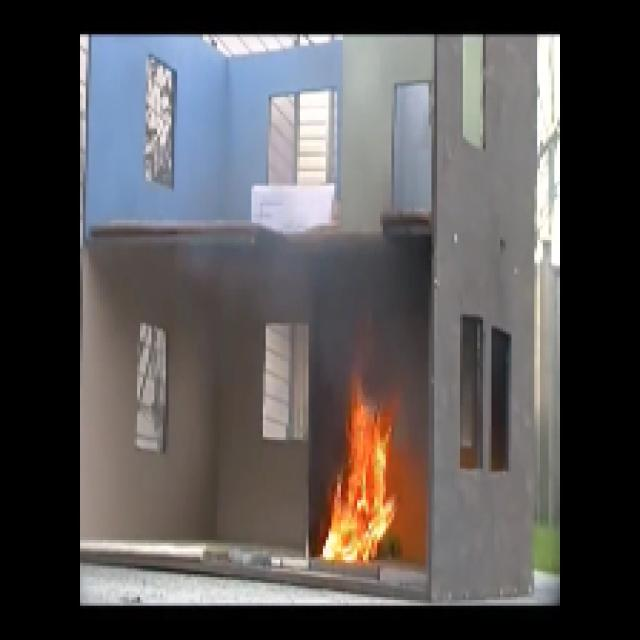fire: (311, 380, 399, 566)
smoke: (322, 250, 424, 330)
